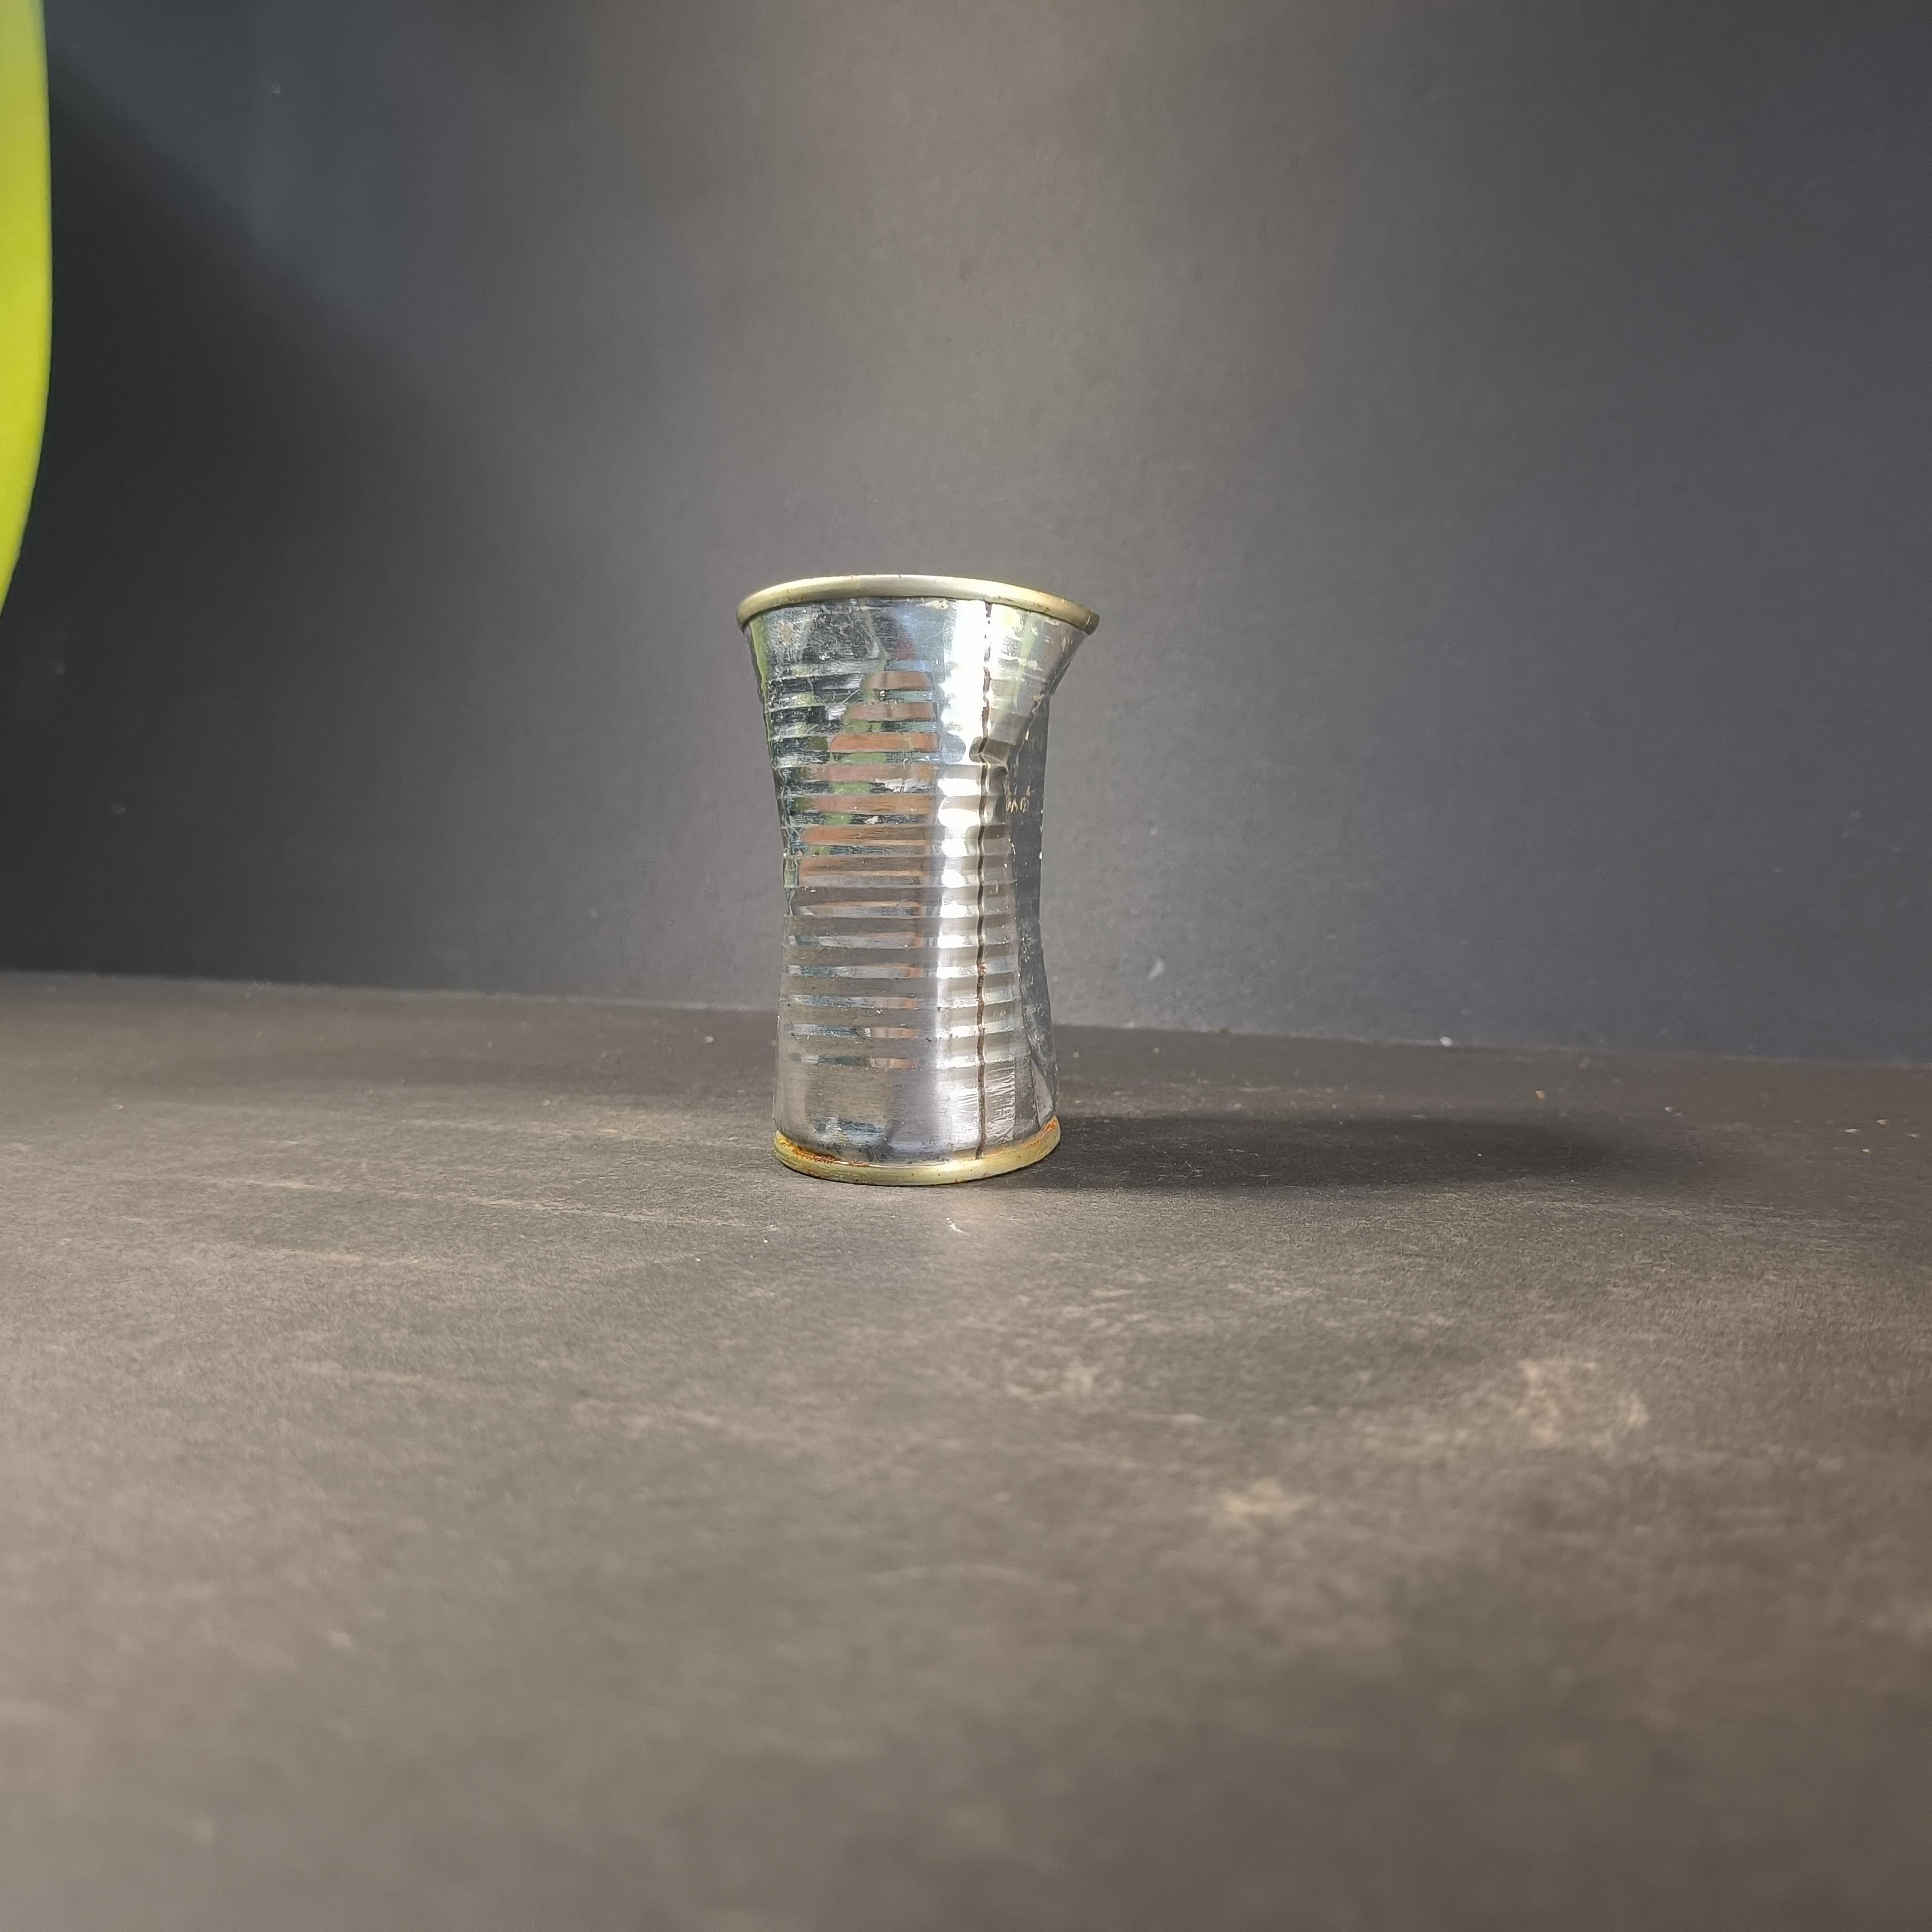Dented: (718, 550, 1088, 1177)
